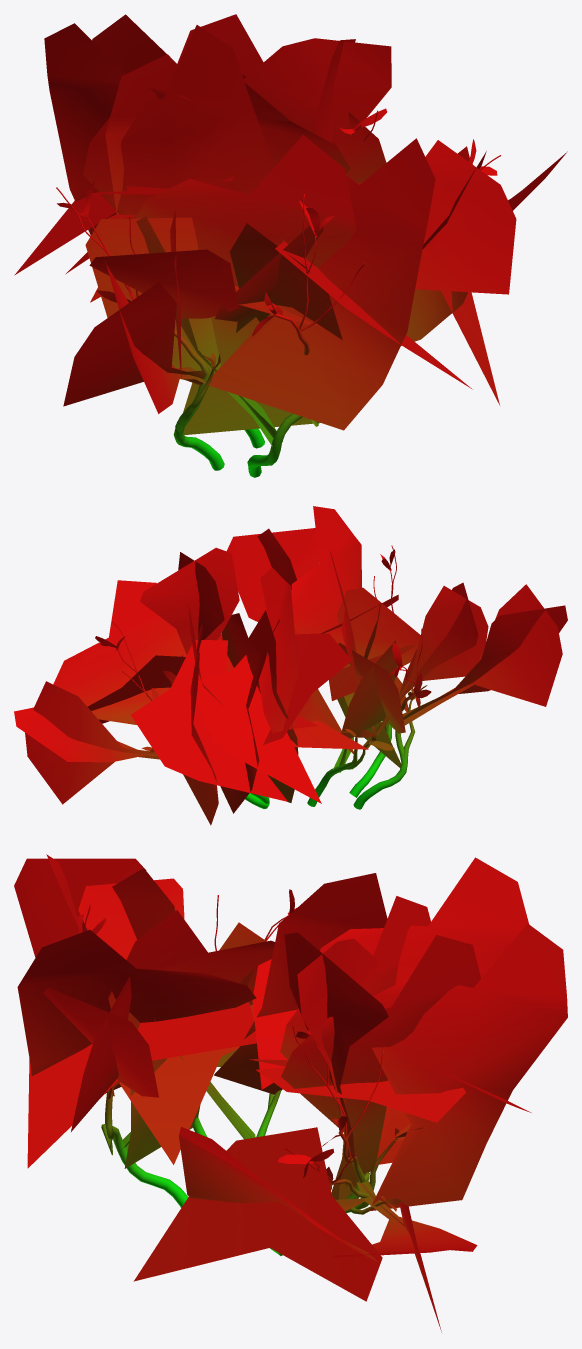
The model's file is Downy Willow_LOD3_Var9_wknlfiuqx.fbx.
3 views of the same model, one above another, from view 1: azimuth 30°, elevation 25°; view 2: azimuth 150°, elevation 25°; view 3: azimuth 270°, elevation 25° (orthographic). The views are drawn at different scales.
Parts seen in each view (by area): view 1: _ou9b_Var9_LOD3; view 2: _ou9b_Var9_LOD3; view 3: _ou9b_Var9_LOD3.
Boxes of the visible parts, <box> form: _ou9b_Var9_LOD3: <box>14,14,567,477</box>; _ou9b_Var9_LOD3: <box>14,506,567,825</box>; _ou9b_Var9_LOD3: <box>14,854,567,1332</box>.
Size of the model in its own units: 103 by 62.62 by 86.74.
